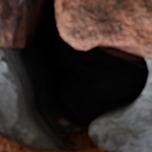brick: (0, 133, 66, 151), (80, 149, 107, 151)
broken_brick: (58, 0, 151, 60), (0, 0, 17, 48)
crack: (2, 0, 149, 151)
